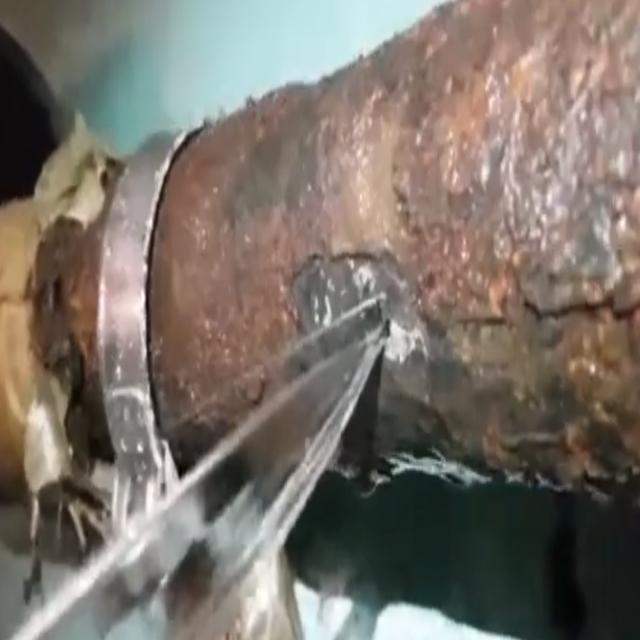leak: (19, 295, 389, 638)
